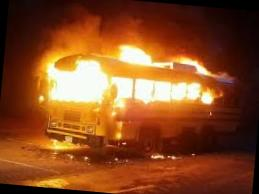Fire: (36, 32, 235, 114)
